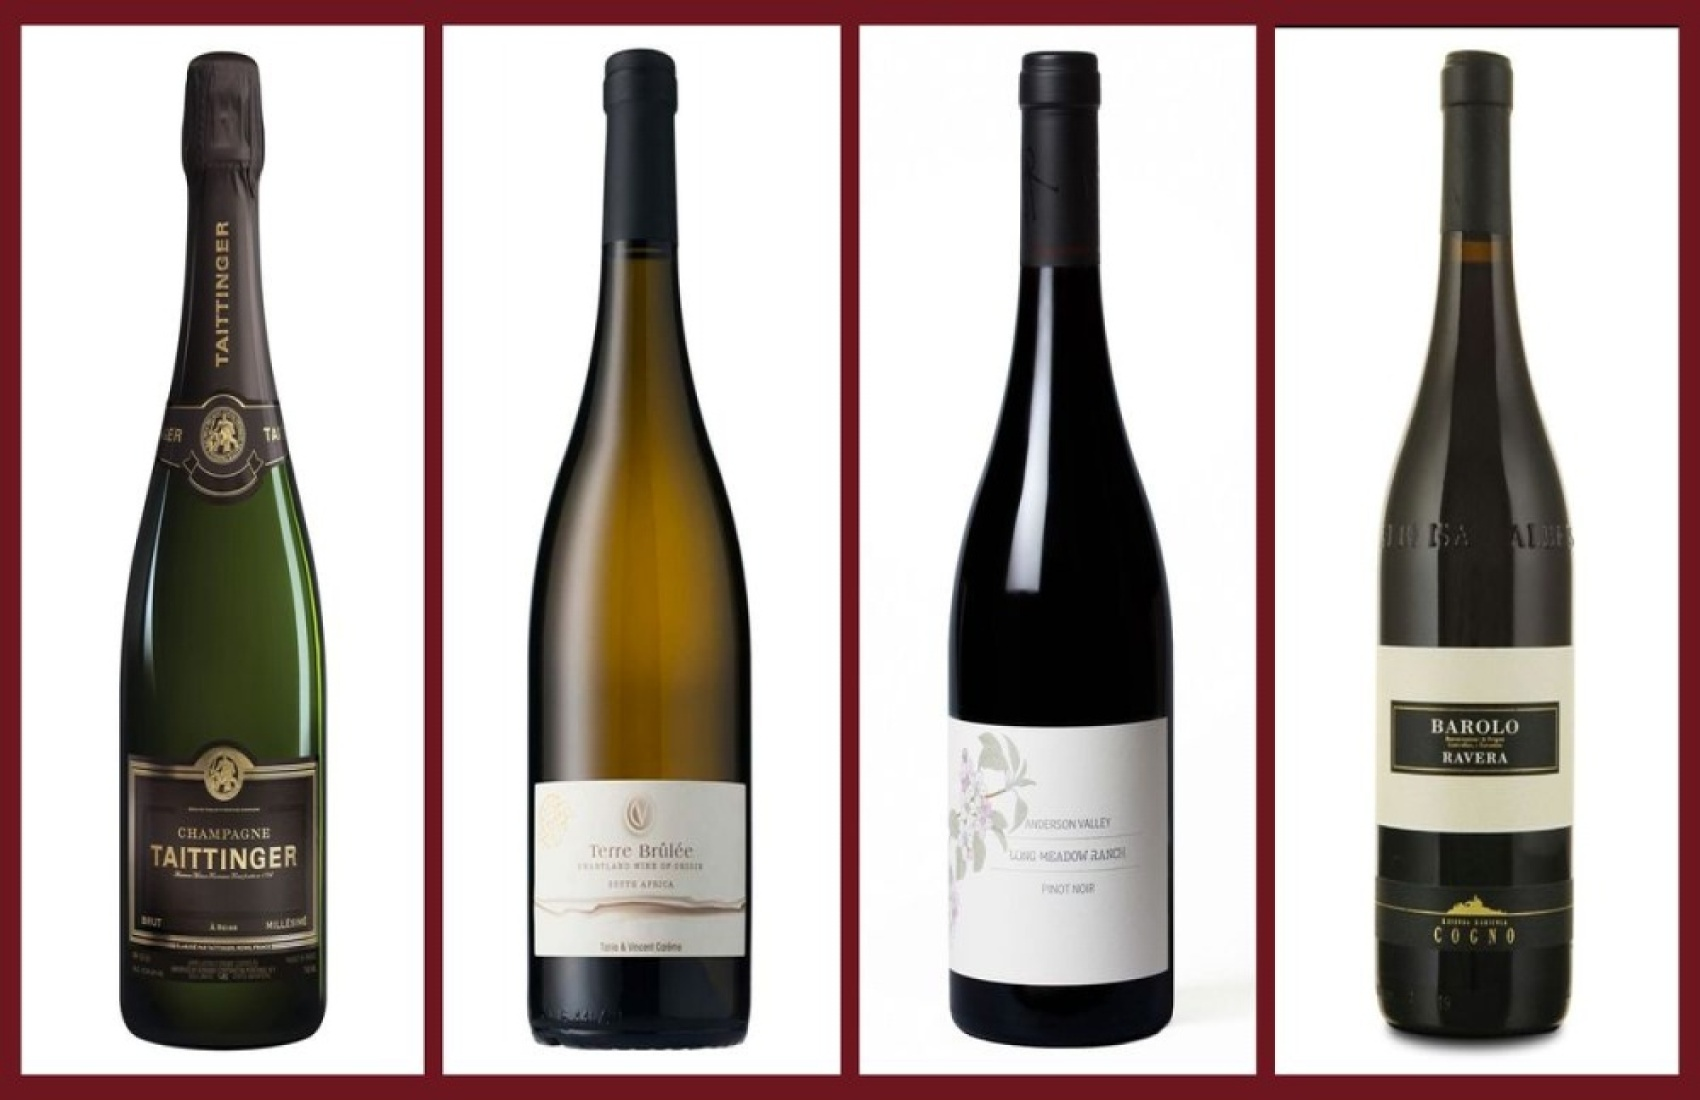wine: (524, 25, 761, 1044), (948, 68, 1178, 1029), (121, 53, 341, 1031), (1374, 66, 1574, 1015)
